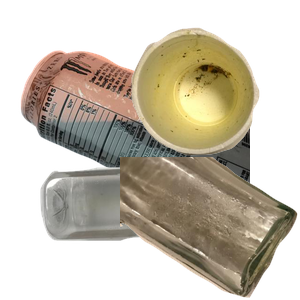glass: (120, 157, 300, 300)
metal: (18, 48, 258, 228)
plastic: (38, 165, 255, 300)
trash: (129, 25, 300, 173)
